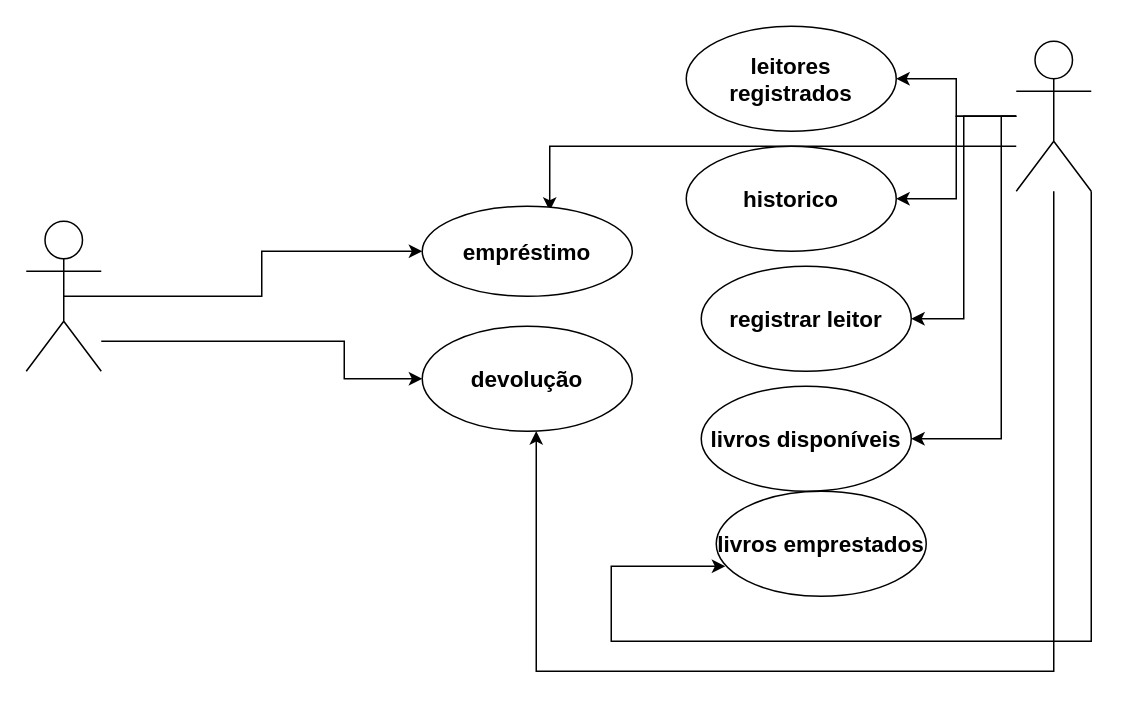
The diagram is 1130 pixels wide and 710 high, and some of its shapes have lost their labels. Here are the shapes that lost their labels. From the top down, the centre of each, then its label:
At point 1053,115: "Bibliotecário".
At point 63,295: "Leitor".
